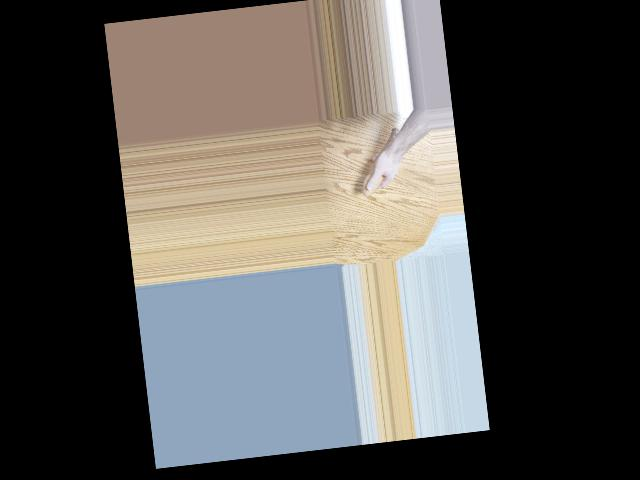sweet_potato: (355, 125, 407, 197)
